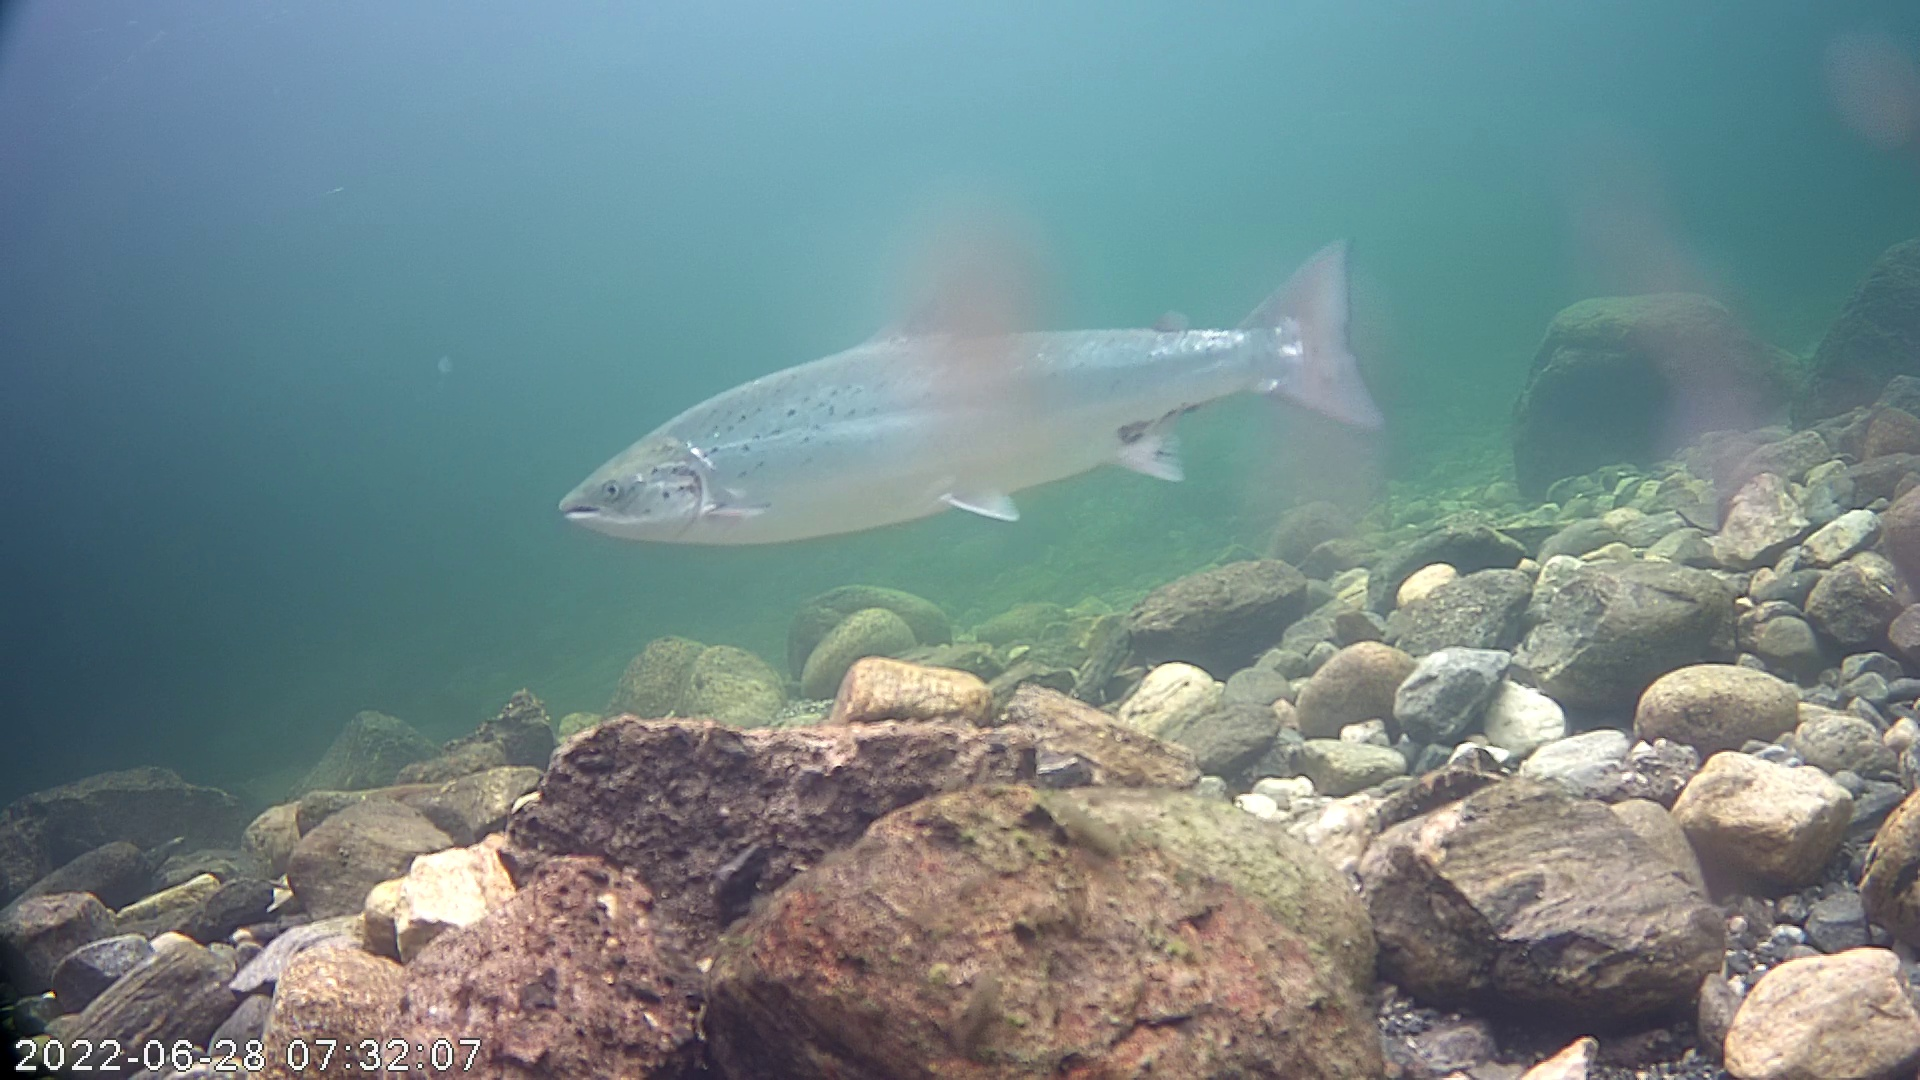salmon: (551, 156, 1411, 607)
